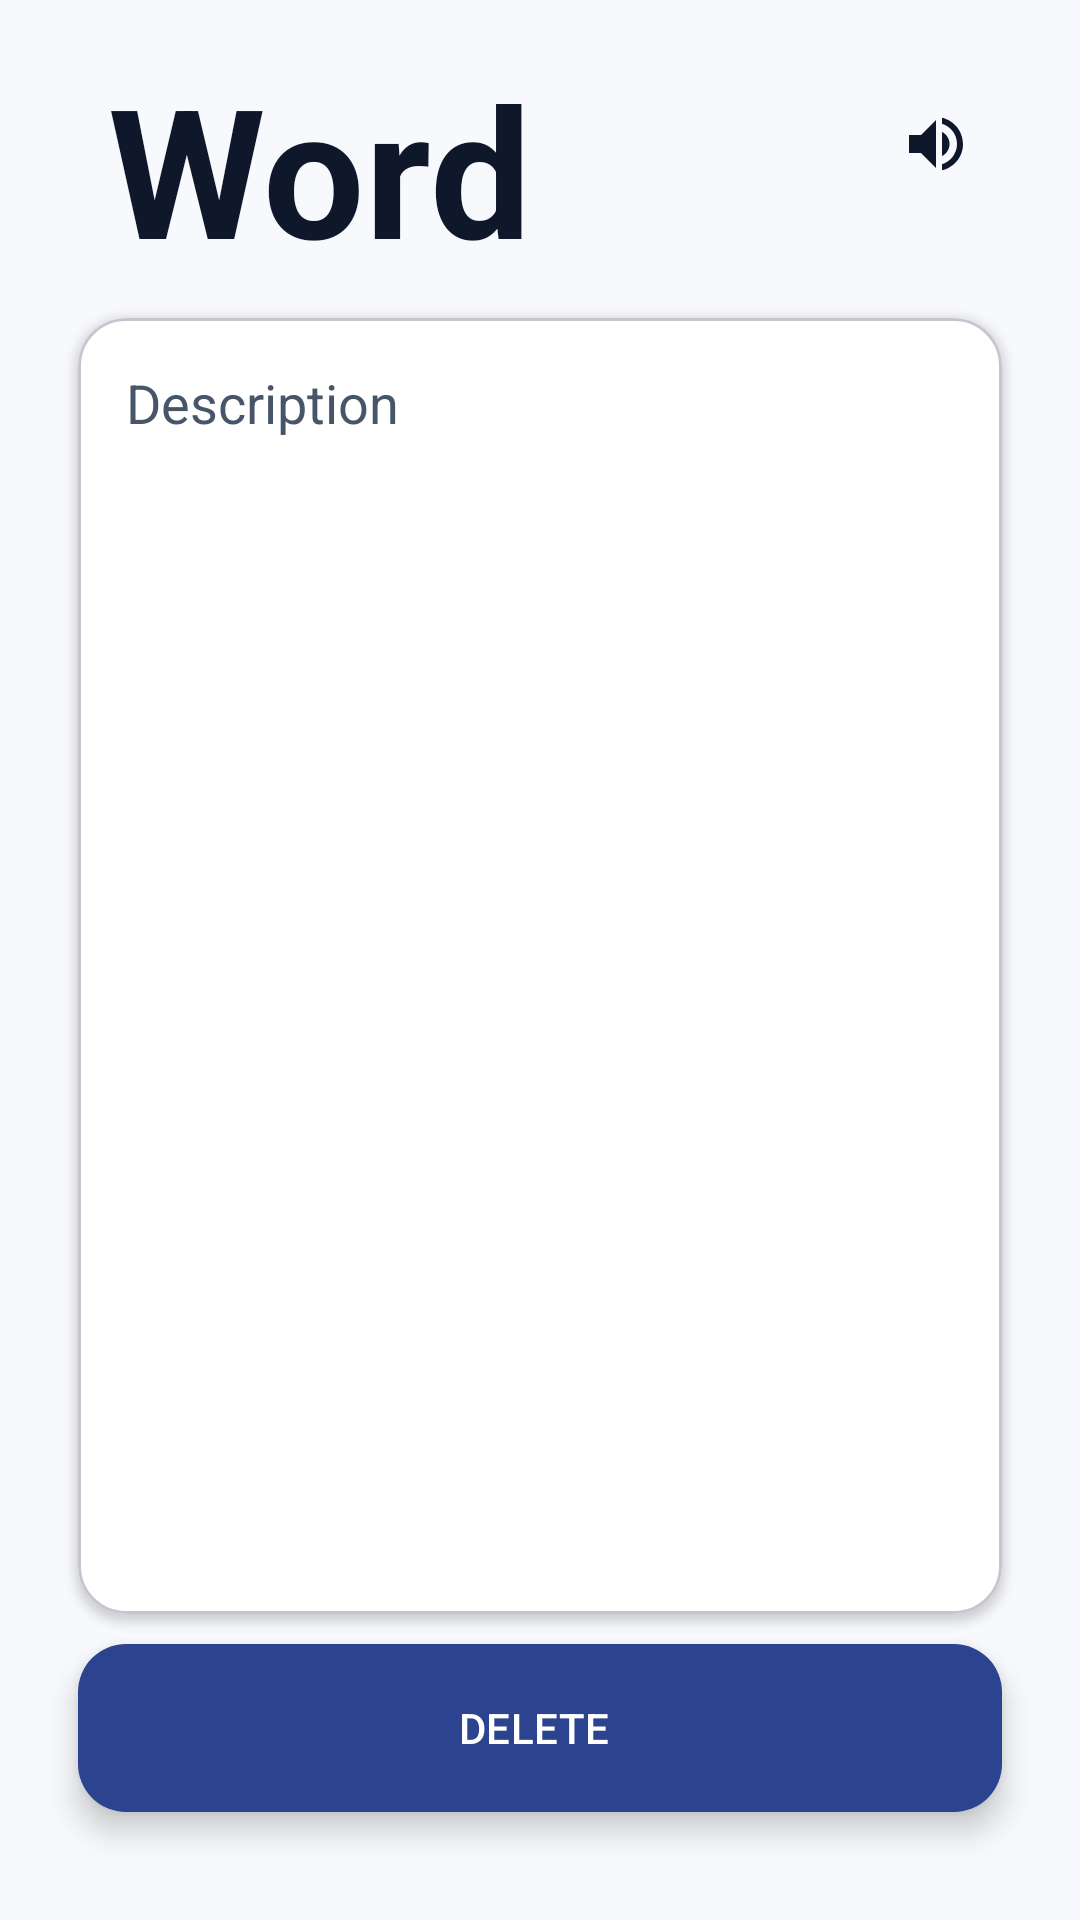

Point at icon controls on the screen. Image size 1080×1920, points as point (x, y).
Play pronunciation: point (936, 144)
